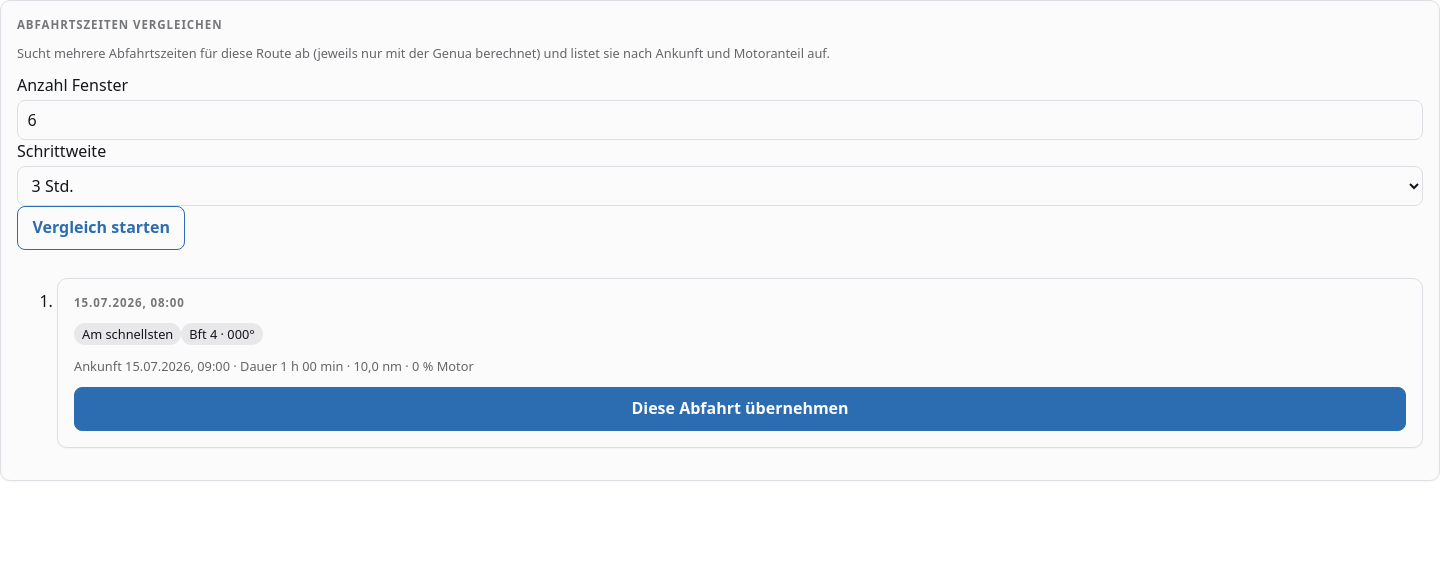
DepartureCompare › #937 confirm action › §2.2 "worth surfacing" residual: a confirmed result that decides a DIFFERENT rig than genoa is surfaced honestly, naming the rig
The width and height of the screenshot is (1440, 564).
Click the button "Diese Abfahrt übernehmen" at (740,409), box [74,387,1406,431]
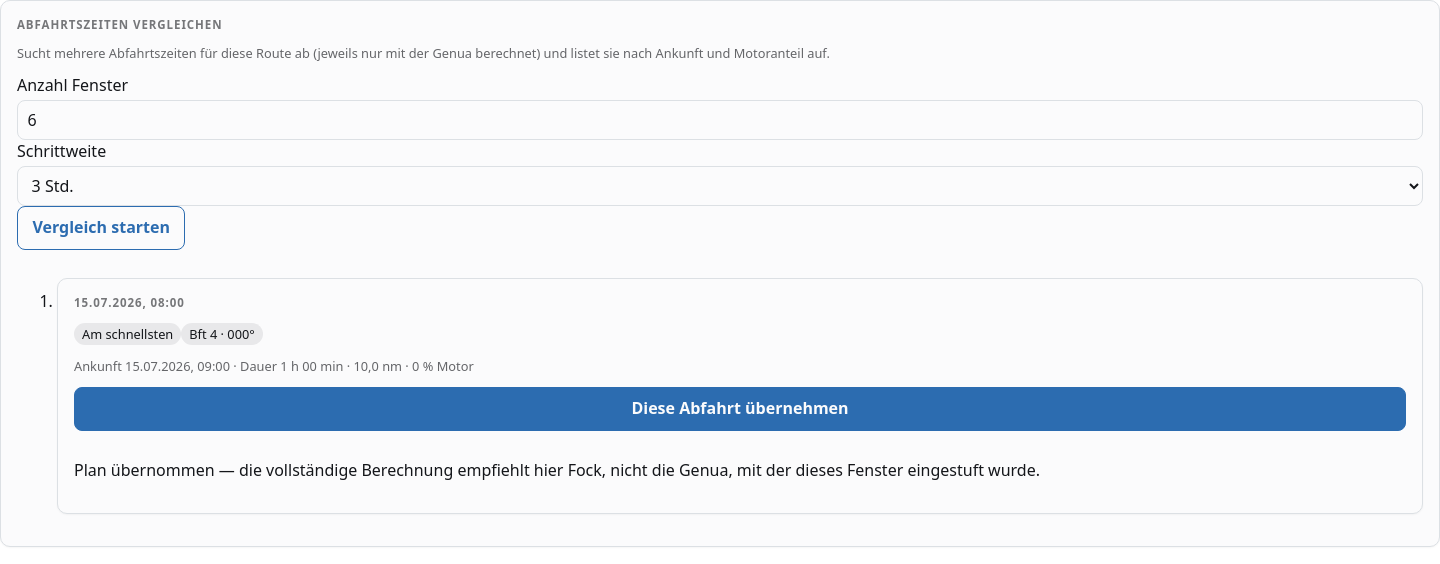
Now the text "empfiehlt hier Fock" is shown, box [74,459,1040,481]
